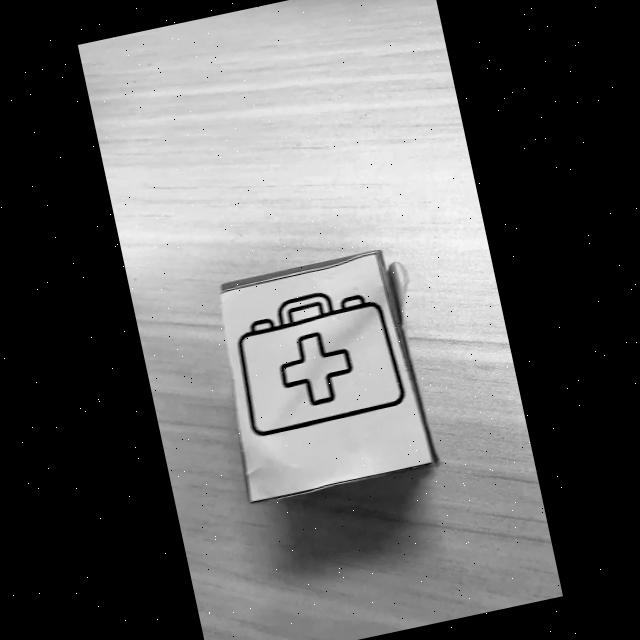Medkit: (236, 291, 404, 436)
